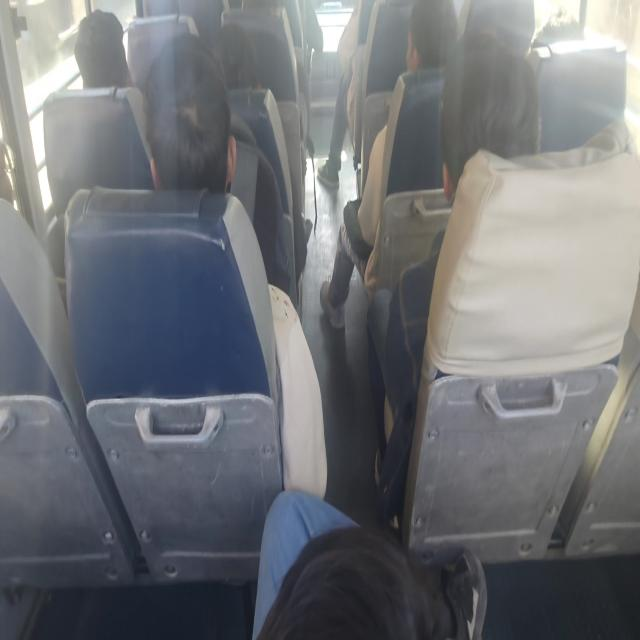person: (366, 29, 542, 526), (142, 32, 328, 497), (320, 0, 458, 329), (142, 32, 298, 305), (252, 489, 487, 638), (74, 9, 154, 183), (316, 0, 375, 189), (74, 9, 133, 89)
